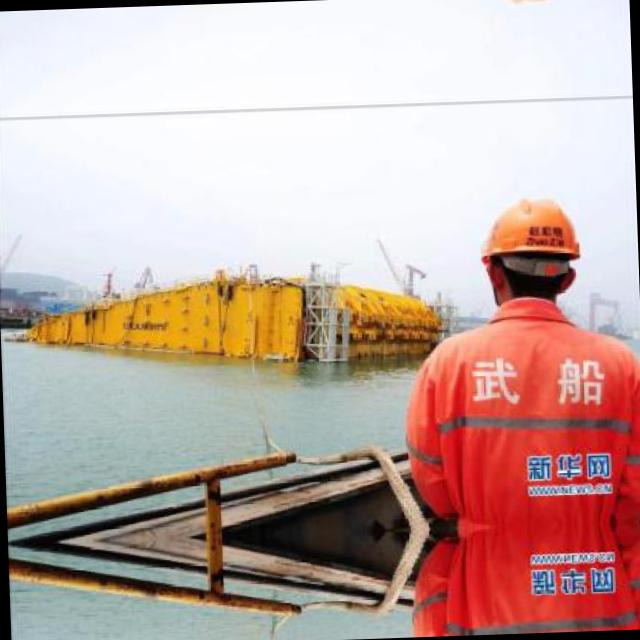helmet: (468, 176, 598, 317), (461, 0, 589, 22)
